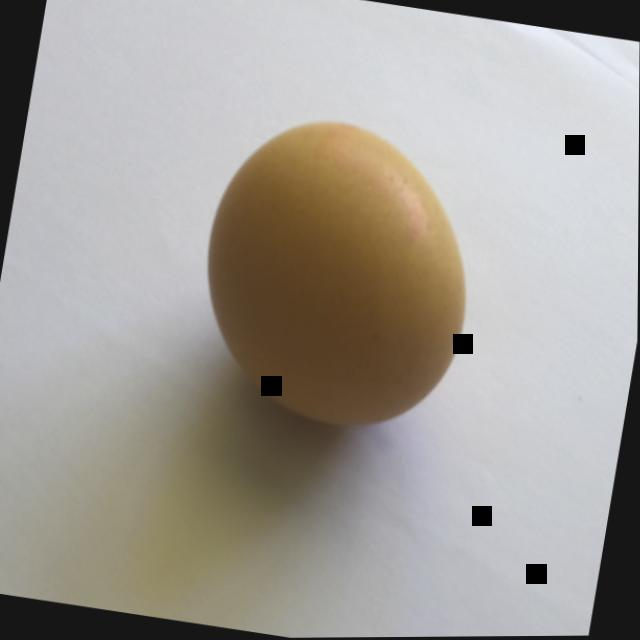Egg: (129, 68, 543, 526)
